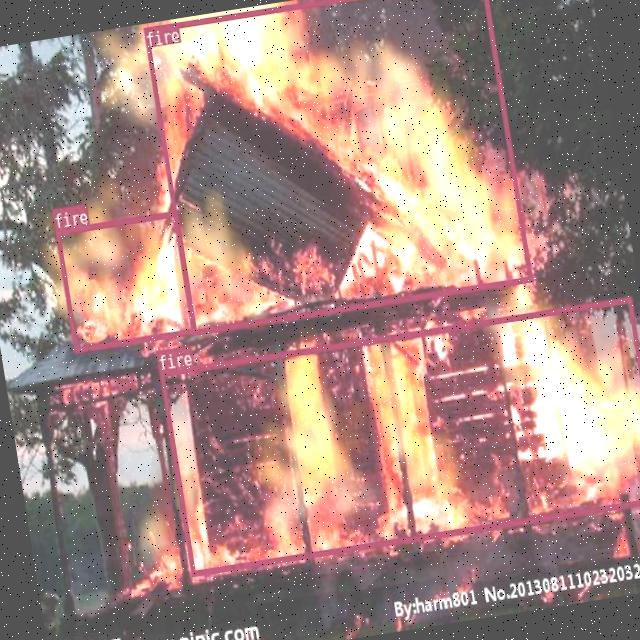fire: (158, 295, 640, 575), (143, 0, 532, 335), (54, 209, 196, 352)
